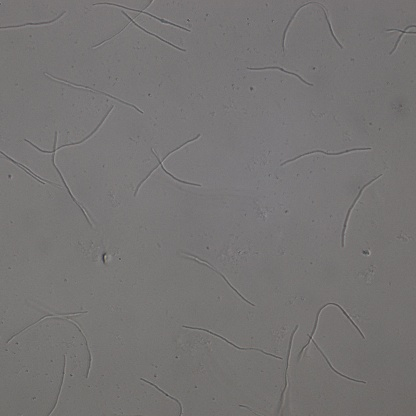Sensitive: (298, 300, 368, 385), (88, 1, 191, 56), (25, 103, 115, 155), (133, 133, 200, 198), (52, 131, 93, 229), (181, 252, 254, 306), (182, 323, 281, 358), (281, 1, 343, 51), (341, 172, 382, 247), (278, 143, 372, 168), (1, 151, 57, 189), (139, 378, 182, 416), (41, 355, 66, 416), (1, 10, 66, 32), (279, 325, 296, 406), (248, 66, 313, 86), (384, 21, 416, 56)
